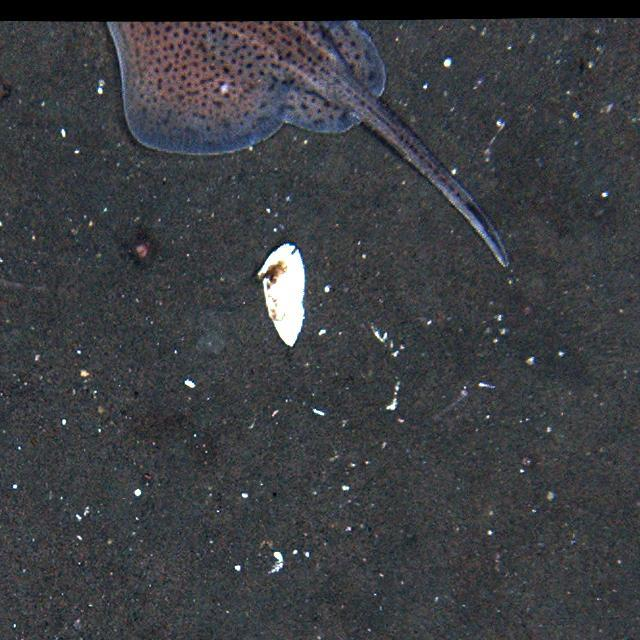skate: (102, 22, 524, 264)
